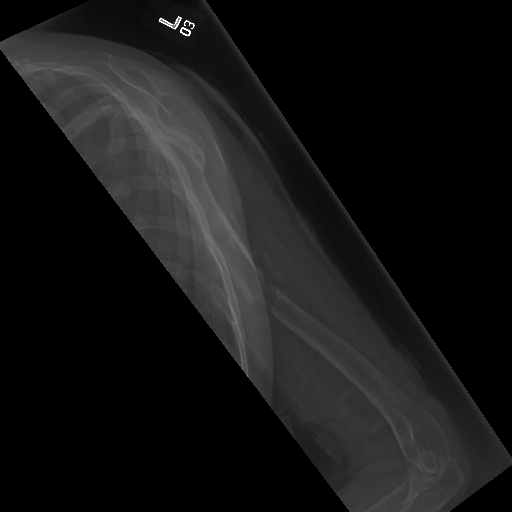fracture: (251, 248, 284, 334)
